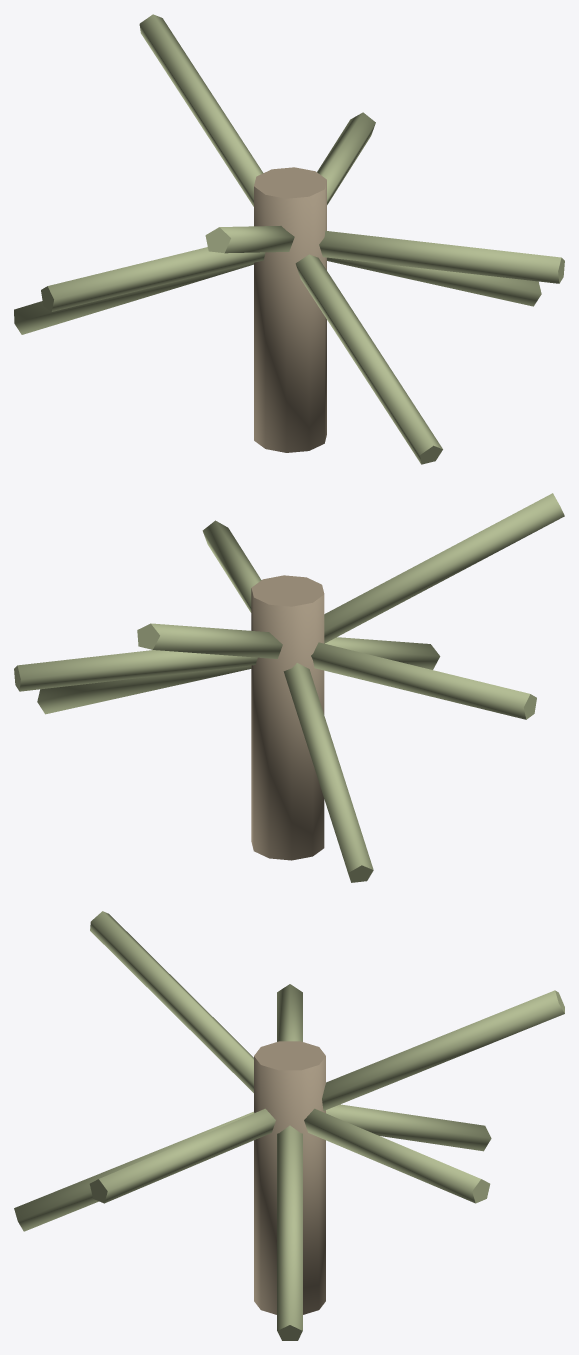
The model's file is arizona-yucca_lod1.glb.
3 views of the same model, one above another, from view 1: azimuth 30°, elevation 25°; view 2: azimuth 150°, elevation 25°; view 3: azimuth 270°, elevation 25° (orthographic). The views are drawn at different scales.
Parts seen in each view (by area): view 1: RF_YuccaStem, RF_YuccaLeaf, RF_YuccaLeaf.007, RF_YuccaLeaf.003, RF_YuccaLeaf.005, RF_YuccaLeaf.001, RF_YuccaLeaf.004, RF_YuccaLeaf.006, RF_YuccaLeaf.002; view 2: RF_YuccaStem, RF_YuccaLeaf.006, RF_YuccaLeaf.005, RF_YuccaLeaf.004, RF_YuccaLeaf.002, RF_YuccaLeaf.003, RF_YuccaLeaf.001, RF_YuccaLeaf, RF_YuccaLeaf.007; view 3: RF_YuccaStem, RF_YuccaLeaf.003, RF_YuccaLeaf.006, RF_YuccaLeaf.001, RF_YuccaLeaf, RF_YuccaLeaf.002, RF_YuccaLeaf.004, RF_YuccaLeaf.007, RF_YuccaLeaf.005.
Boxes of the visible parts, x1,y1,x2,y2 form: RF_YuccaStem: [254, 167, 326, 452]; RF_YuccaLeaf: [319, 230, 564, 283]; RF_YuccaLeaf.007: [295, 254, 442, 464]; RF_YuccaLeaf.003: [139, 14, 263, 206]; RF_YuccaLeaf.005: [41, 247, 265, 311]; RF_YuccaLeaf.001: [327, 257, 541, 306]; RF_YuccaLeaf.004: [14, 263, 253, 334]; RF_YuccaLeaf.006: [205, 226, 294, 253]; RF_YuccaLeaf.002: [317, 112, 375, 204]; RF_YuccaStem: [251, 575, 324, 860]; RF_YuccaLeaf.006: [324, 493, 564, 643]; RF_YuccaLeaf.005: [311, 642, 536, 719]; RF_YuccaLeaf.004: [283, 663, 373, 882]; RF_YuccaLeaf.002: [14, 650, 257, 691]; RF_YuccaLeaf.003: [137, 623, 282, 658]; RF_YuccaLeaf.001: [37, 665, 251, 714]; RF_YuccaLeaf: [202, 520, 261, 612]; RF_YuccaLeaf.007: [325, 637, 440, 669]; RF_YuccaStem: [254, 1041, 325, 1314]; RF_YuccaLeaf.003: [322, 990, 564, 1110]; RF_YuccaLeaf.006: [90, 911, 253, 1092]; RF_YuccaLeaf.001: [277, 1125, 302, 1340]; RF_YuccaLeaf: [89, 1108, 275, 1203]; RF_YuccaLeaf.002: [304, 1108, 490, 1203]; RF_YuccaLeaf.004: [326, 1104, 491, 1151]; RF_YuccaLeaf.007: [14, 1111, 254, 1231]; RF_YuccaLeaf.005: [277, 984, 302, 1041].
Bounding box in the file's own units: 1.82 × 1.14 × 1.83.
